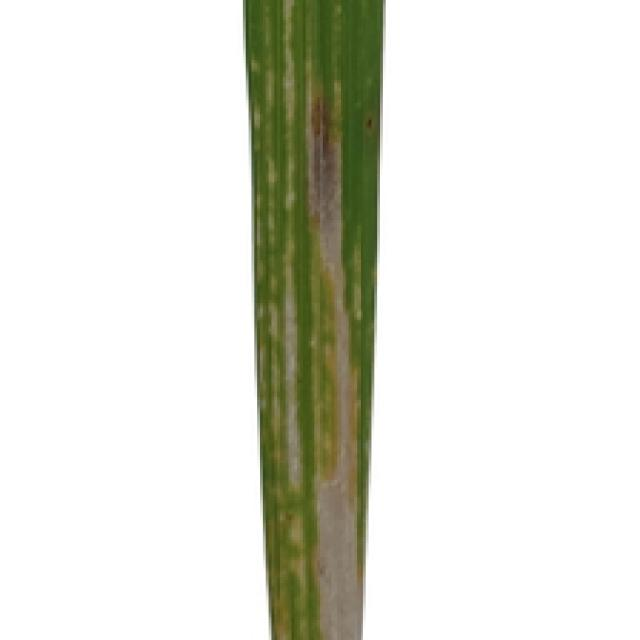Rice___Bacterial_Leaf_Blight: (243, 0, 389, 637)
